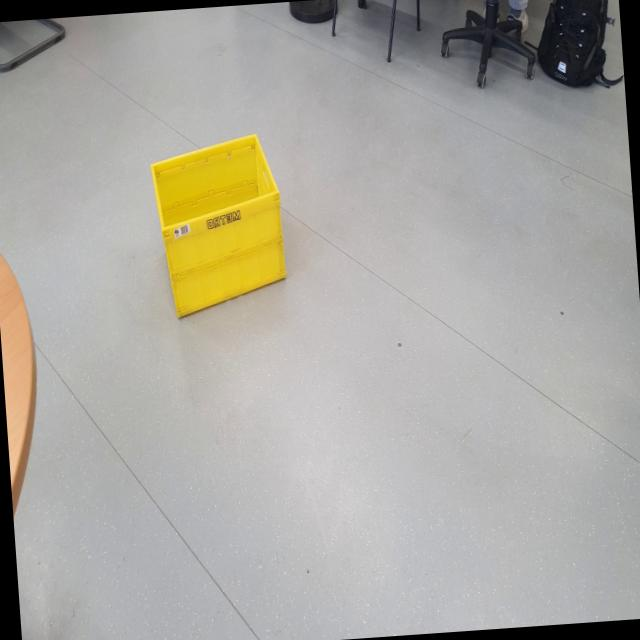box: (146, 120, 297, 334)
